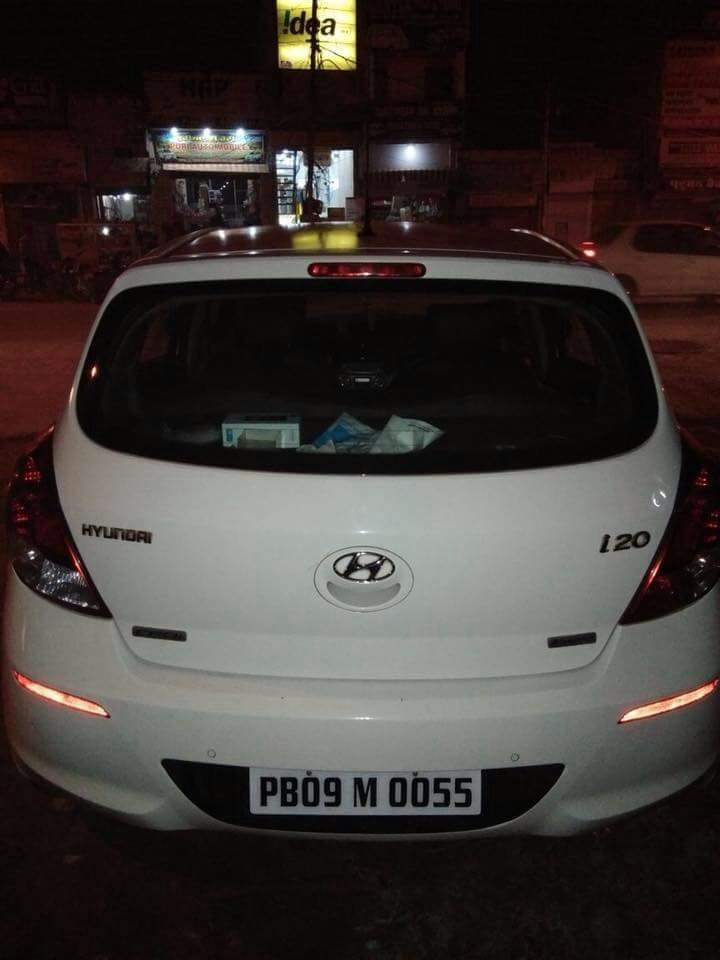number_plate: (245, 758, 490, 826)
